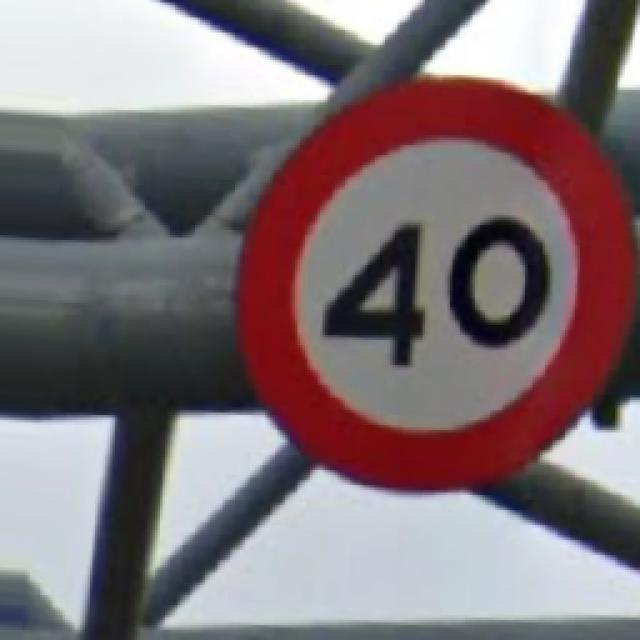Speed Limit -40-: (238, 78, 632, 488)
